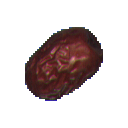gd: (12, 13, 120, 125)
